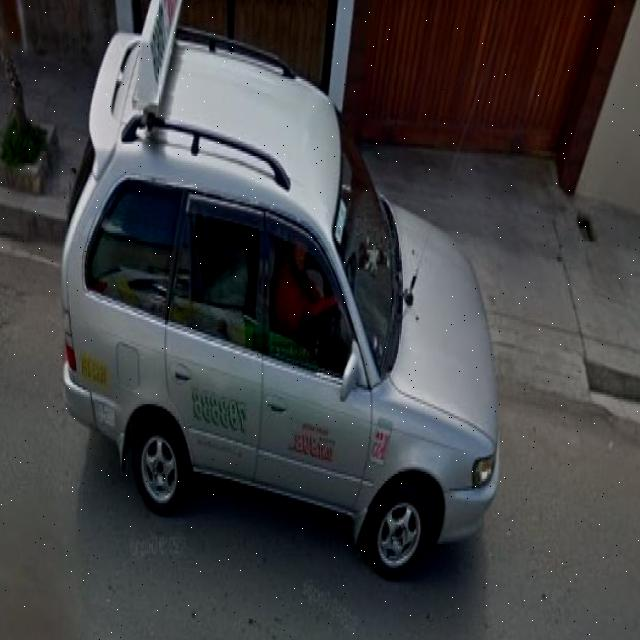car: (59, 28, 499, 588)
